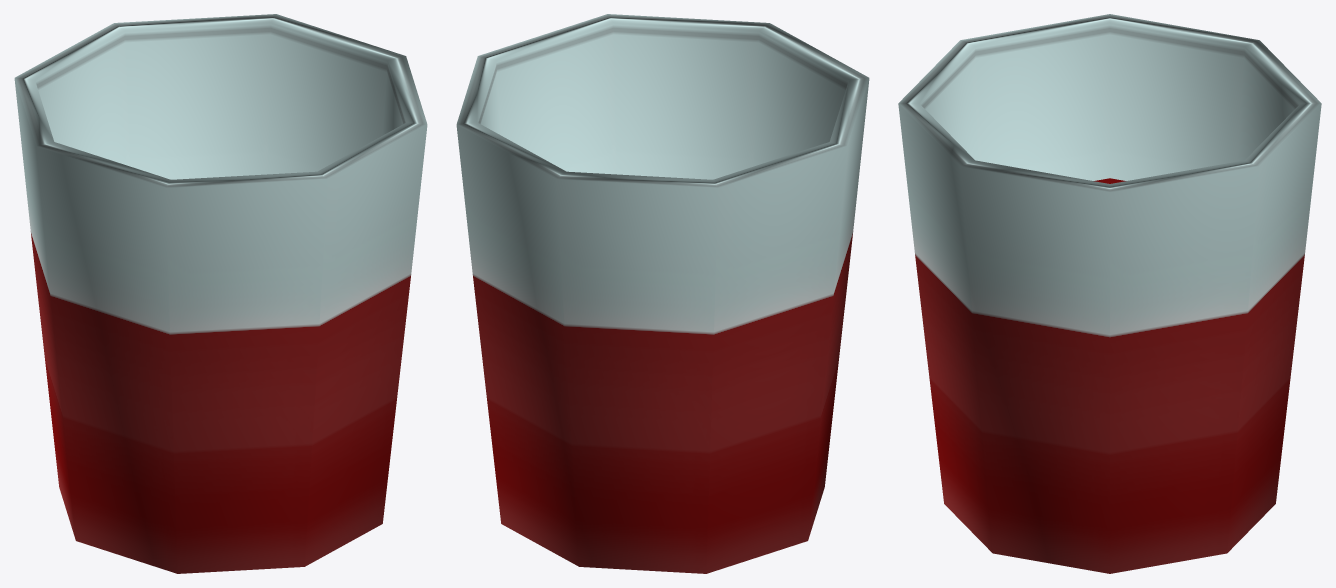
Rendered from cup.fbx.
3 views of the same model, side by side, from view 1: azimuth 30°, elevation 25°; view 2: azimuth 150°, elevation 25°; view 3: azimuth 270°, elevation 25° (orthographic).
Visible parts, largest first — view 1: cup; view 2: cup; view 3: cup.
Boxes of the visible parts, x1,y1,x2,y2 form: cup: (14, 14, 427, 573); cup: (456, 14, 869, 573); cup: (898, 14, 1321, 573).
Bounding box in the file's own units: 0.1464 × 0.1528 × 0.1464.
